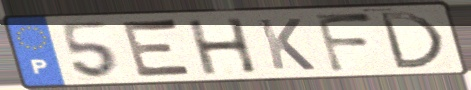5: (56, 19, 124, 82)
D: (375, 10, 448, 71)
E: (119, 18, 198, 80)
F: (312, 12, 378, 74)
H: (184, 16, 262, 77)
K: (255, 17, 319, 72)
